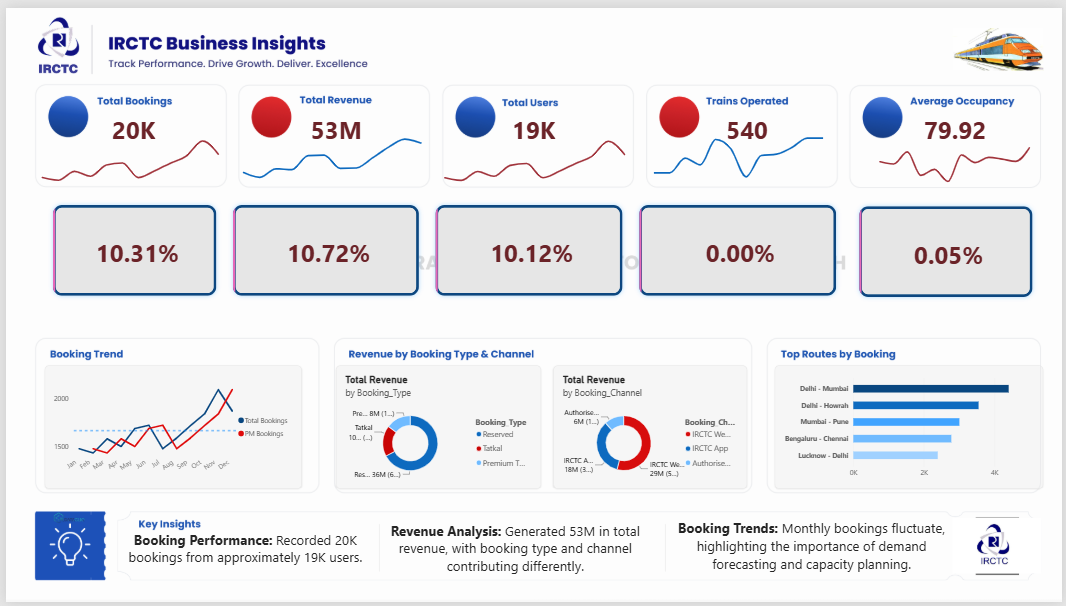

This screenshot's page, from the dashboard's own definition file:
{"tool":"powerbi","page":{"name":"Page 1","canvas":[1920,1080],"ordinal":0},"visuals":[{"type":"lineChart","fields":{"Y":["irctc_data.Total Bookings","irctc_data.PM Bookings"],"Category":["Date Table.Month name"]},"box":[70,650.4,467.2,224.4],"z":0},{"type":"donutChart","fields":{"Y":["irctc_data.Total Revenue"],"Category":["irctc_data.Booking_Type"]},"box":[601,650.4,372.6,224.4],"z":1000},{"type":"cardVisual","fields":{"Data":["irctc_data.Total Bookings"]},"box":[86.4,131.7,292.3,177],"z":2000},{"type":"donutChart","fields":{"Y":["irctc_data.Total Revenue"],"Category":["irctc_data.Booking_Channel"]},"box":[996.2,650.4,352,224.4],"z":3000},{"type":"barChart","fields":{"Y":["irctc_data.Total Bookings"],"Category":["irctc_data.Route"]},"box":[1397.6,650.4,487.8,224.4],"z":4000},{"type":"cardVisual","fields":{"Data":["irctc_data.Total Revenue"]},"box":[454.9,131.7,292,177],"z":5000},{"type":"cardVisual","fields":{"Data":["irctc_data.Total User"]},"box":[813,131.7,292.3,177],"z":6000},{"type":"cardVisual","fields":{"Data":["irctc_data.Trains Operated"]},"box":[1171.2,131.7,354,177],"z":7000},{"type":"cardVisual","fields":{"Data":["irctc_data.Avg Occupancy"]},"box":[1578.7,131.7,292,177],"z":8000},{"type":"cardVisual","fields":{"Data":["irctc_data.MOM Booking %"]},"box":[86.4,343.2,311.4,195.5],"z":9000},{"type":"cardVisual","fields":{"Data":["irctc_data.MOM Revenue %"]},"box":[397.7,343.2,368.2,195.5],"z":10000},{"type":"cardVisual","fields":{"Data":["irctc_data.MOM User %"]},"box":[765.9,343.2,370.5,195.5],"z":11000},{"type":"cardVisual","fields":{"Data":["irctc_data.MOM Train op %"]},"box":[1136.4,343.2,388.6,195.5],"z":12000},{"type":"cardVisual","fields":{"Data":["irctc_data.MOM avg_oc %"]},"box":[1525,343.2,345.5,195.5],"z":13000},{"type":"lineChart","fields":{"Y":["irctc_data.Total Bookings"],"Category":["Date Table.Month name"]},"box":[54.5,220.5,343.2,97.7],"z":14000},{"type":"lineChart","fields":{"Category":["Date Table.Month name"],"Y":["irctc_data.Total Revenue"]},"box":[420.5,220.5,345.5,97.7],"z":15000},{"type":"lineChart","fields":{"Category":["Date Table.Month name"],"Y":["irctc_data.Total User"]},"box":[786.4,220.5,350,97.7],"z":16000},{"type":"lineChart","fields":{"Category":["Date Table.Month name"],"Y":["irctc_data.Trains Operated"]},"box":[1168.2,220.5,327.3,106.8],"z":17000},{"type":"lineChart","fields":{"Category":["Date Table.Month name"],"Y":["irctc_data.Avg Occupancy"]},"box":[1579.5,231.8,290.9,111.4],"z":18000},{"type":"textbox","box":[211.4,950,447.7,81.8],"z":19000},{"type":"textbox","box":[679.5,934.1,493.2,97.7],"z":19001},{"type":"textbox","box":[1204.5,929.5,520.5,102.3],"z":19002},{"type":"image","box":[1720.5,875,161.4,204.5],"z":19003},{"type":"image","box":[1720.5,0,165.9,150],"z":19004}]}

Visuals, with their boxes in screenshot pixels (x1, y1, x2, y2), scaled from the page's 1920x1080 canvas onto the 1066x606 screenshot:
lineChart - irctc_data.Total Bookings x irctc_data.PM Bookings: <bbox>39, 365, 298, 491</bbox>
donutChart - irctc_data.Total Revenue x irctc_data.Booking_Type: <bbox>334, 365, 541, 491</bbox>
cardVisual - irctc_data.Total Bookings: <bbox>48, 74, 210, 173</bbox>
donutChart - irctc_data.Total Revenue x irctc_data.Booking_Channel: <bbox>553, 365, 749, 491</bbox>
barChart - irctc_data.Total Bookings x irctc_data.Route: <bbox>776, 365, 1047, 491</bbox>
cardVisual - irctc_data.Total Revenue: <bbox>253, 74, 415, 173</bbox>
cardVisual - irctc_data.Total User: <bbox>451, 74, 614, 173</bbox>
cardVisual - irctc_data.Trains Operated: <bbox>650, 74, 847, 173</bbox>
cardVisual - irctc_data.Avg Occupancy: <bbox>877, 74, 1039, 173</bbox>
cardVisual - irctc_data.MOM Booking %: <bbox>48, 193, 221, 302</bbox>
cardVisual - irctc_data.MOM Revenue %: <bbox>221, 193, 425, 302</bbox>
cardVisual - irctc_data.MOM User %: <bbox>425, 193, 631, 302</bbox>
cardVisual - irctc_data.MOM Train op %: <bbox>631, 193, 847, 302</bbox>
cardVisual - irctc_data.MOM avg_oc %: <bbox>847, 193, 1039, 302</bbox>
lineChart - irctc_data.Total Bookings x Date Table.Month name: <bbox>30, 124, 221, 179</bbox>
lineChart - Date Table.Month name x irctc_data.Total Revenue: <bbox>233, 124, 425, 179</bbox>
lineChart - Date Table.Month name x irctc_data.Total User: <bbox>437, 124, 631, 179</bbox>
lineChart - Date Table.Month name x irctc_data.Trains Operated: <bbox>649, 124, 830, 184</bbox>
lineChart - Date Table.Month name x irctc_data.Avg Occupancy: <bbox>877, 130, 1038, 193</bbox>
textbox: <bbox>117, 533, 366, 579</bbox>
textbox: <bbox>377, 524, 651, 579</bbox>
textbox: <bbox>669, 522, 958, 579</bbox>
image: <bbox>955, 491, 1045, 605</bbox>
image: <bbox>955, 0, 1047, 84</bbox>
